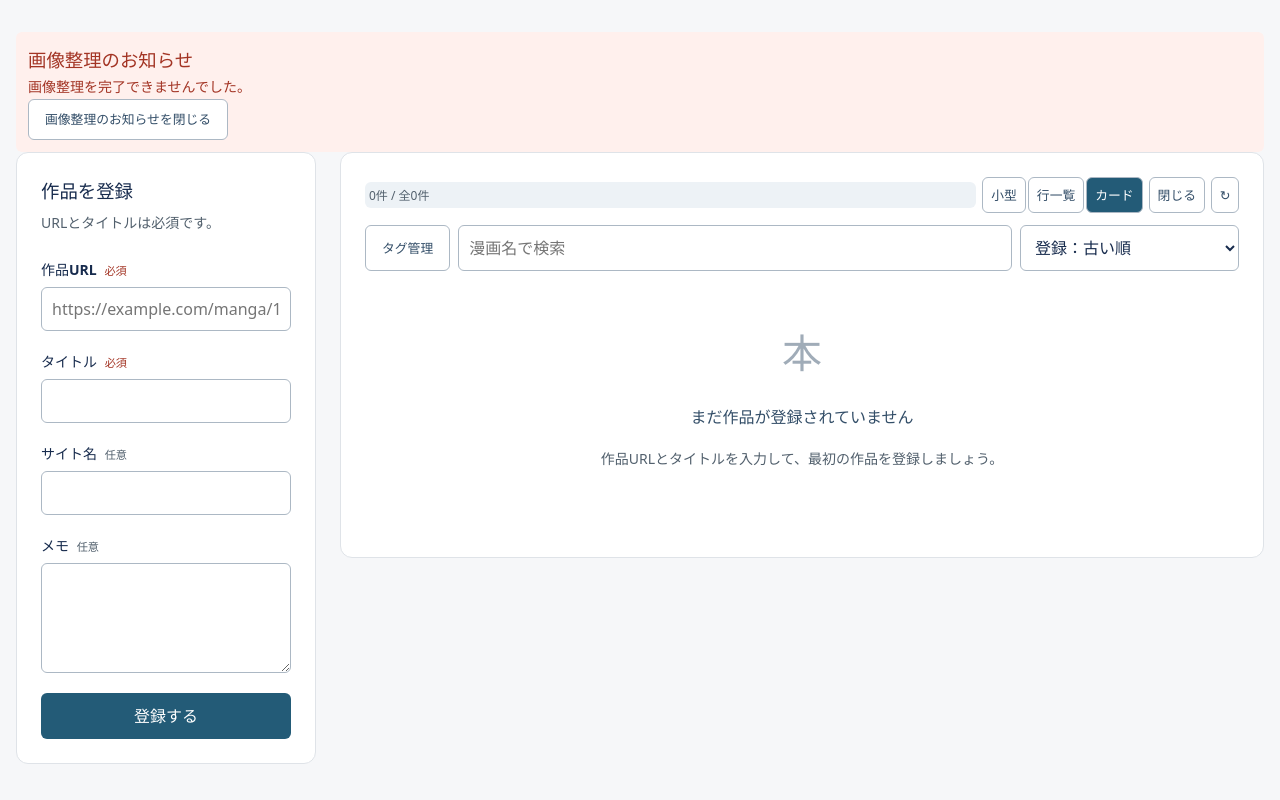
Test: 初回描画機会の後に整理を要求し、StrictModeでも予約を一つにして警告を閉じられる
Expected: the message "画像整理のお知らせ" is shown, [16, 32, 1264, 152]
Click the button "画像整理のお知らせを閉じる" at x=128, y=120, box [28, 99, 228, 140]
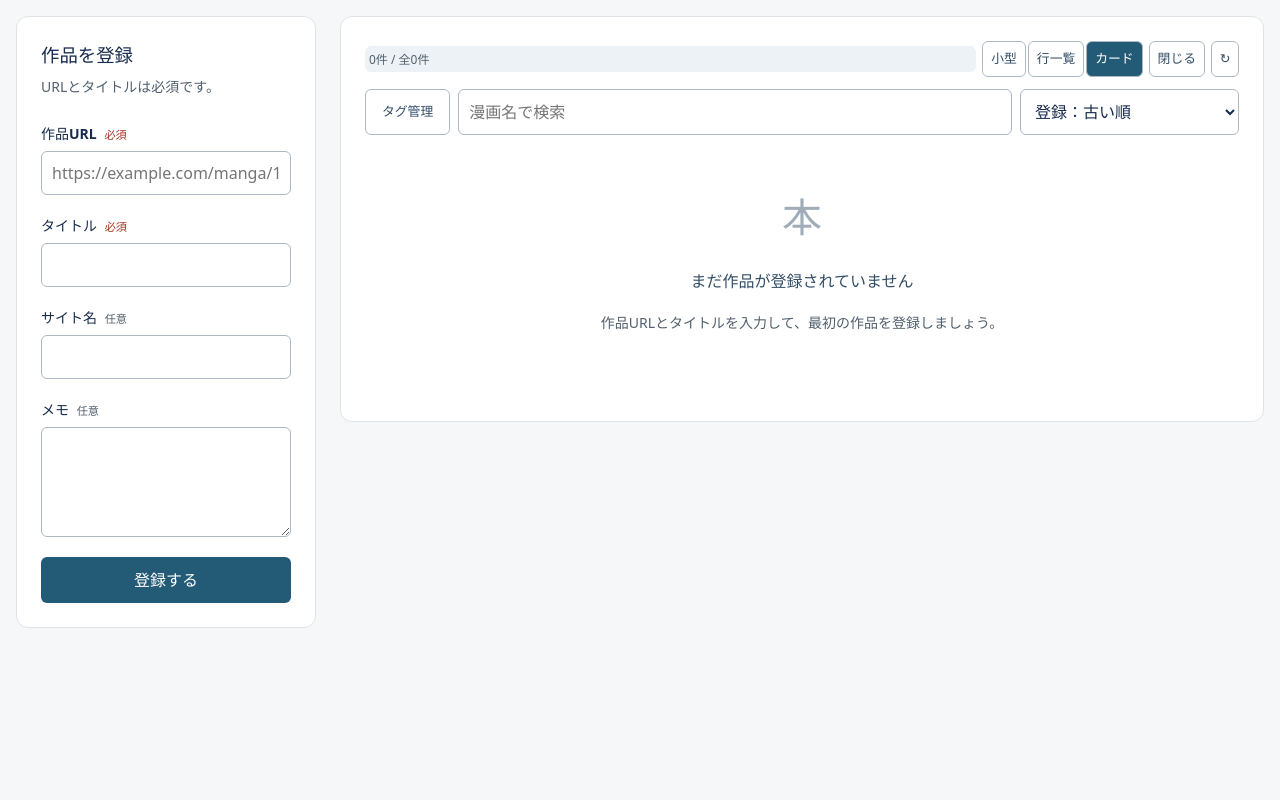
Now the heading "画像整理のお知らせ" is gone
